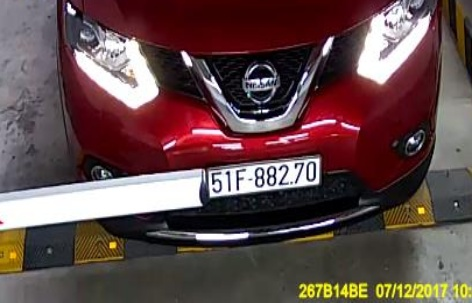plate: (197, 151, 330, 199)
